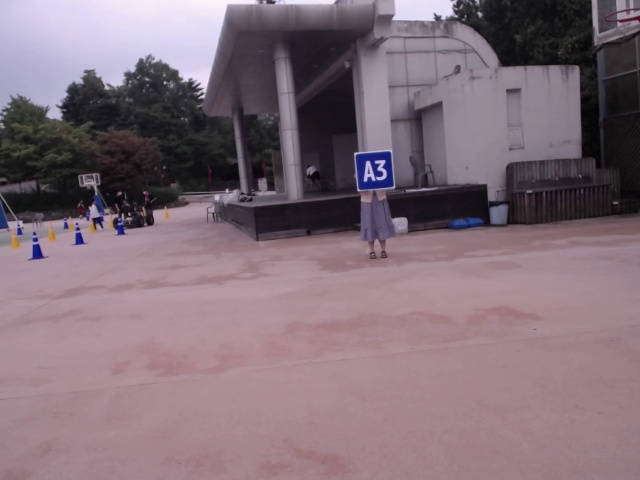delivery_a3: (355, 151, 395, 191)
